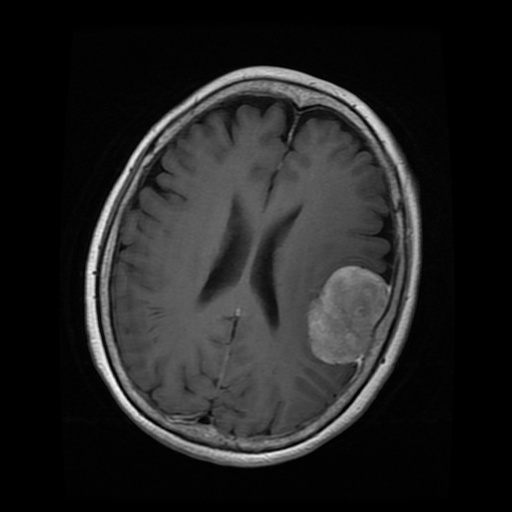meningioma: (308, 265, 388, 362)
